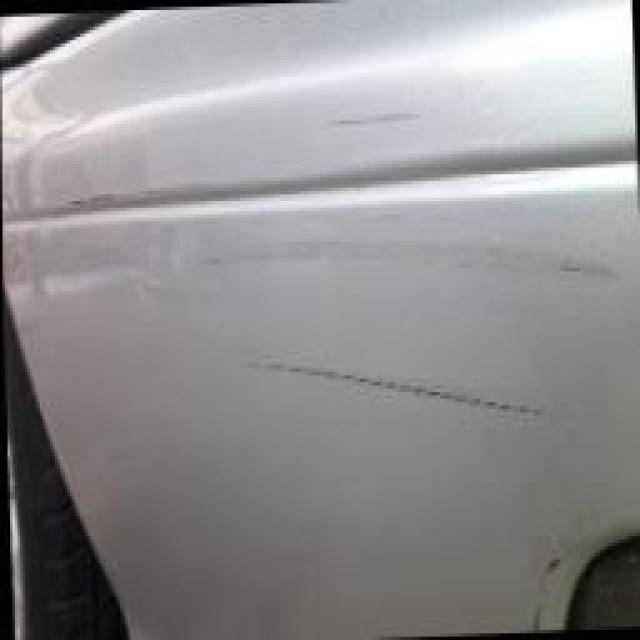Bumper: (55, 74, 639, 489)
